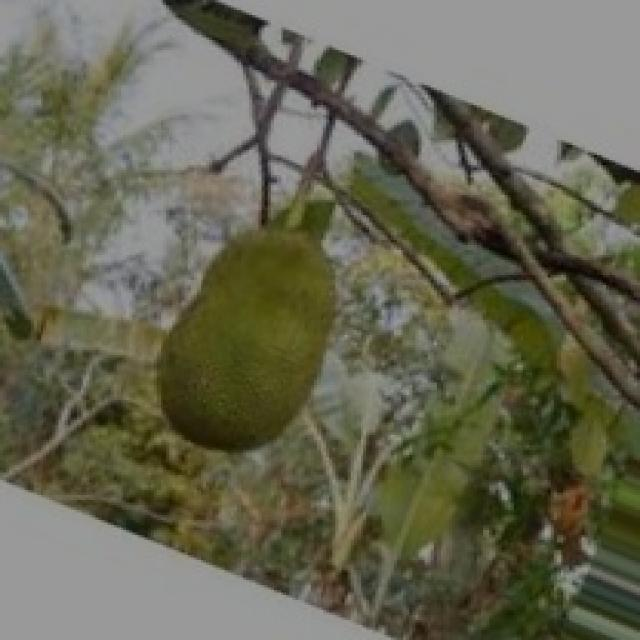Fruit: (123, 205, 372, 483)
